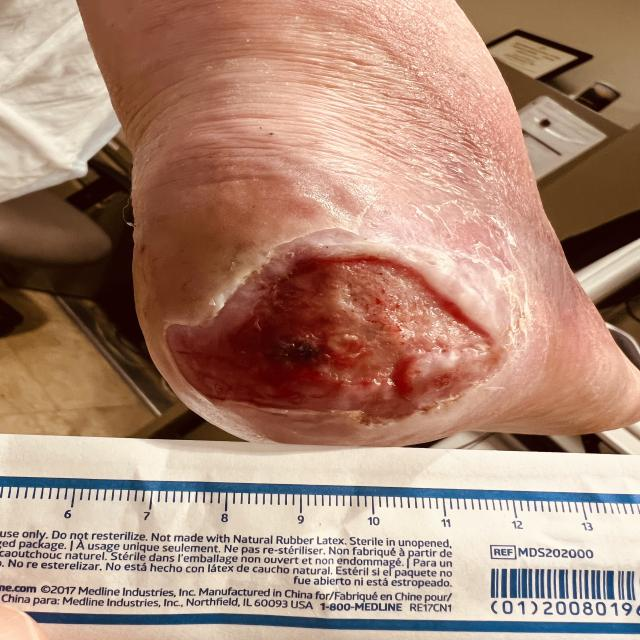stage-3: (167, 255, 497, 419)
